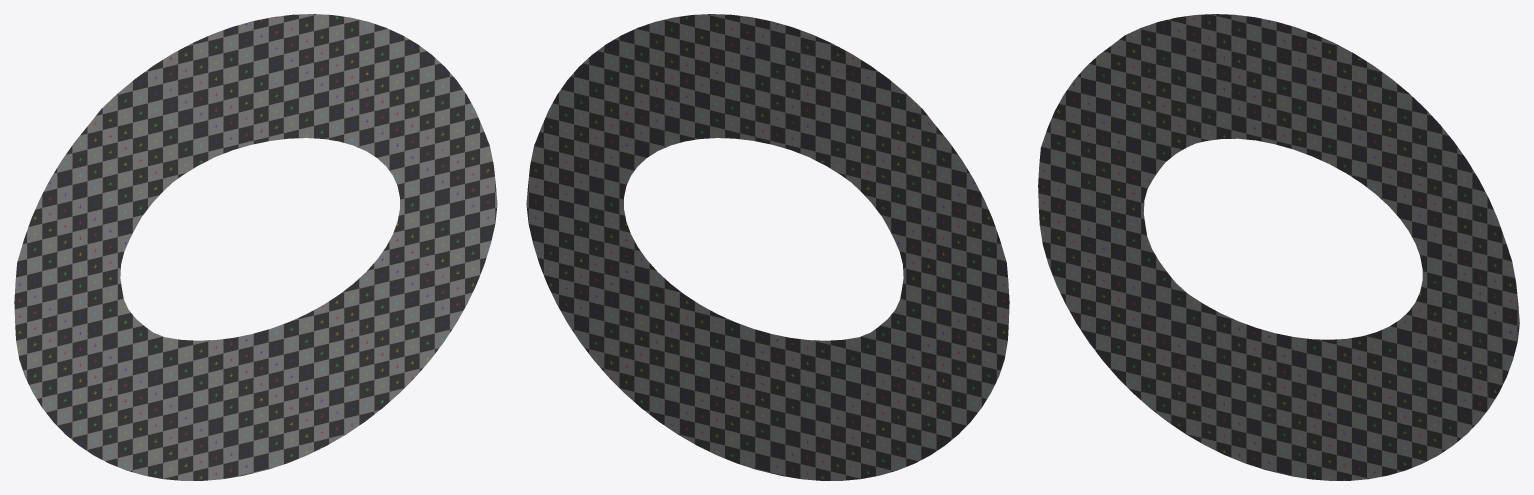
The model's file is base_water.glb.
The picture shows the model from 3 angles, left to right: view 1: azimuth 30°, elevation 25°; view 2: azimuth 150°, elevation 25°; view 3: azimuth 330°, elevation 25°; orthographic projection.
Parts seen in each view (by area): view 1: externo; view 2: externo; view 3: externo.
Boxes of the visible parts, <box> form: externo: <box>14,14,497,480</box>; externo: <box>526,14,1009,480</box>; externo: <box>1038,14,1519,480</box>.
Bounding box in the file's own units: 268 × 240 × 0.000437.
Materials: 1 (1 with a texture image).
